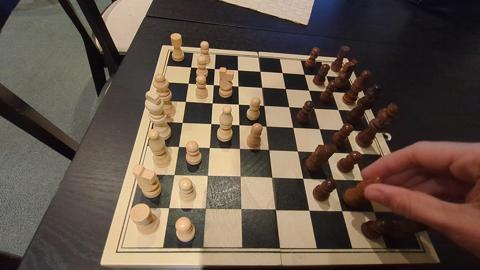xcorner: (279, 68, 288, 77), (260, 101, 269, 110), (289, 123, 298, 132), (301, 70, 310, 78), (211, 64, 219, 73), (282, 85, 291, 93), (259, 83, 267, 92), (234, 82, 243, 90), (310, 104, 319, 112), (316, 124, 324, 133), (263, 122, 271, 131), (235, 145, 244, 153), (205, 144, 214, 152), (359, 176, 368, 184), (329, 175, 338, 183), (299, 174, 307, 183), (203, 172, 212, 180), (170, 171, 179, 179), (370, 207, 378, 216), (305, 206, 313, 215), (237, 205, 245, 214), (165, 204, 173, 213), (323, 71, 331, 79), (257, 67, 265, 75), (234, 66, 242, 74), (188, 63, 196, 71), (329, 87, 337, 95), (306, 86, 314, 94), (210, 81, 218, 89), (185, 79, 193, 87), (335, 105, 343, 113), (286, 103, 294, 111), (235, 100, 243, 108), (209, 99, 217, 107), (182, 98, 190, 106), (342, 126, 350, 134), (235, 121, 243, 129), (207, 120, 215, 128), (179, 119, 187, 127), (350, 149, 358, 157), (322, 148, 330, 156), (294, 147, 302, 155), (265, 146, 273, 154), (175, 143, 183, 151), (268, 174, 276, 182), (236, 173, 244, 181), (338, 207, 346, 215), (271, 206, 279, 214), (201, 205, 209, 213)
